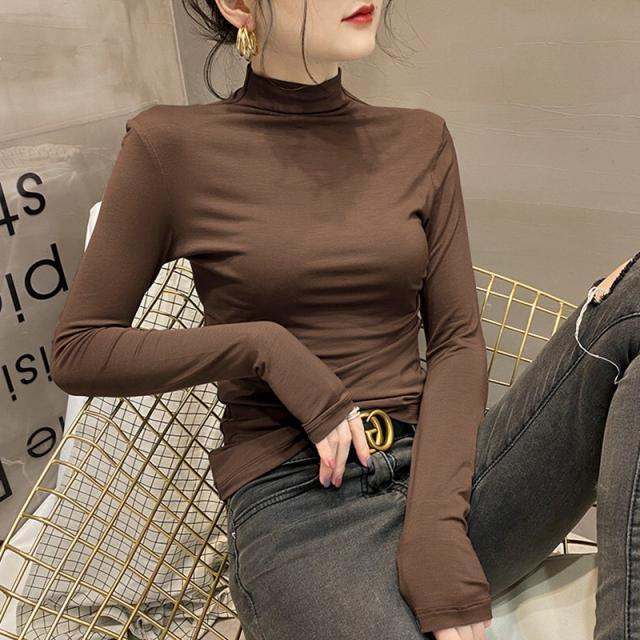long sleeve shirt: (45, 64, 489, 640)
trousers: (219, 246, 640, 640)
